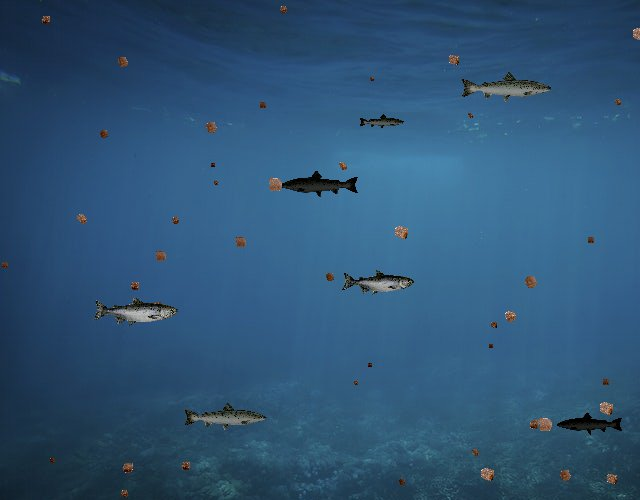Fish: (460, 71, 554, 105), (182, 401, 268, 432), (92, 296, 178, 327), (279, 169, 360, 198), (342, 270, 415, 296), (557, 412, 625, 436), (359, 114, 406, 131)
Pellet: (518, 269, 544, 295), (498, 304, 523, 329), (70, 208, 92, 230), (486, 318, 501, 332), (210, 178, 220, 188)
